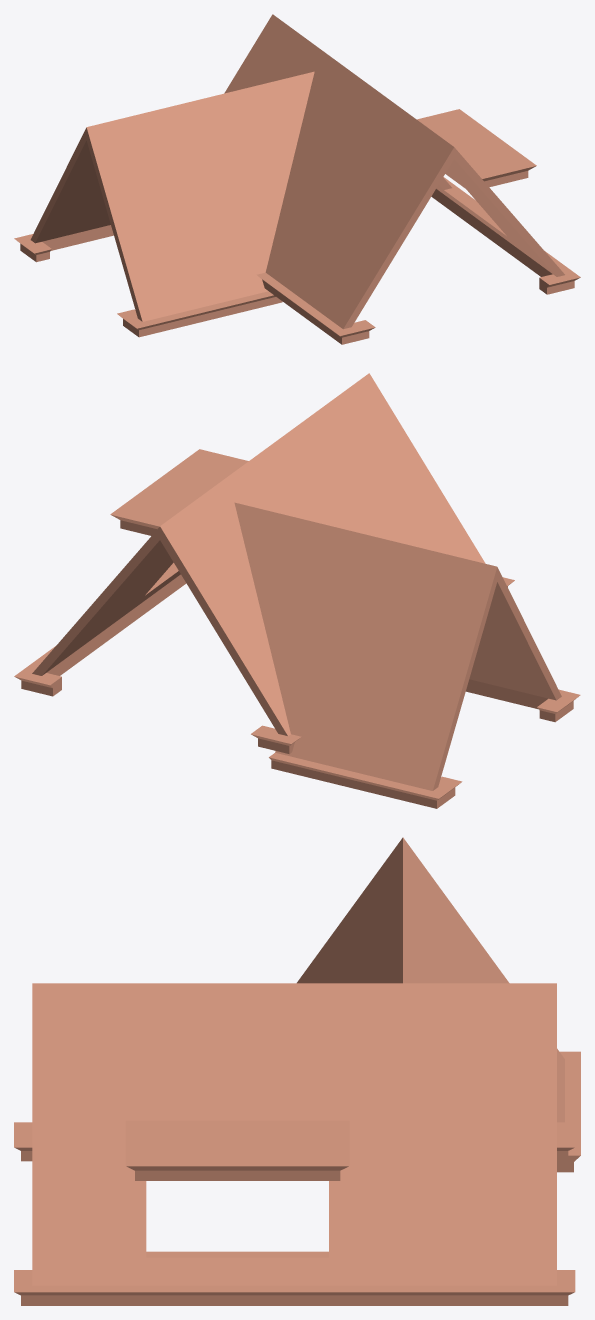
The model's file is dak2.glb.
3 renders of one model, top to bottom at view 1: azimuth 30°, elevation 25°; view 2: azimuth 150°, elevation 25°; view 3: azimuth 270°, elevation 25°, orthographic. The views are drawn at different scales.
Visible parts, largest first — view 1: dak.001; view 2: dak.001; view 3: dak.001.
Boxes of the visible parts, x1,y1,x2,y2 form: dak.001: [14, 14, 580, 344]; dak.001: [14, 373, 580, 808]; dak.001: [14, 837, 580, 1305].
Size of the model in its own units: 406 by 189 by 373.
